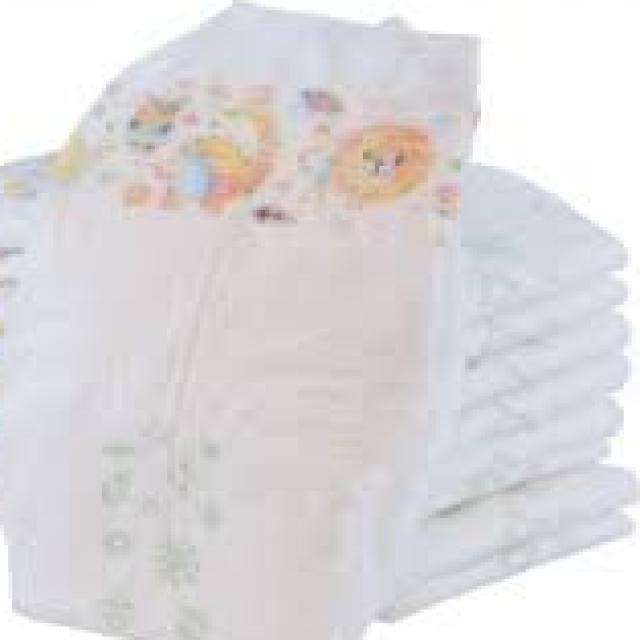organic: (10, 12, 612, 618)
